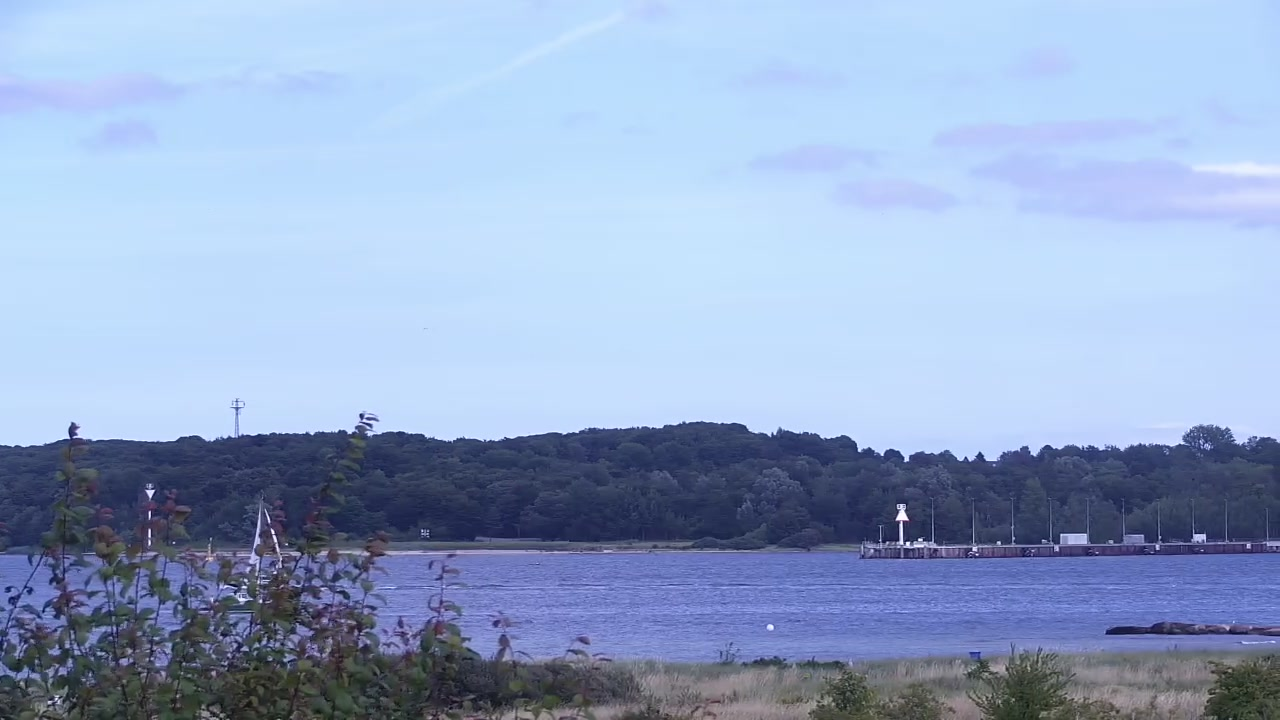sea: (199, 491, 285, 611)
